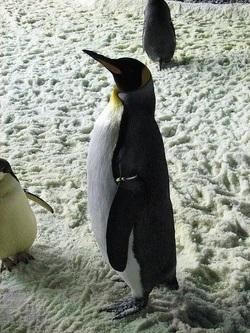king: (37, 39, 195, 328)
